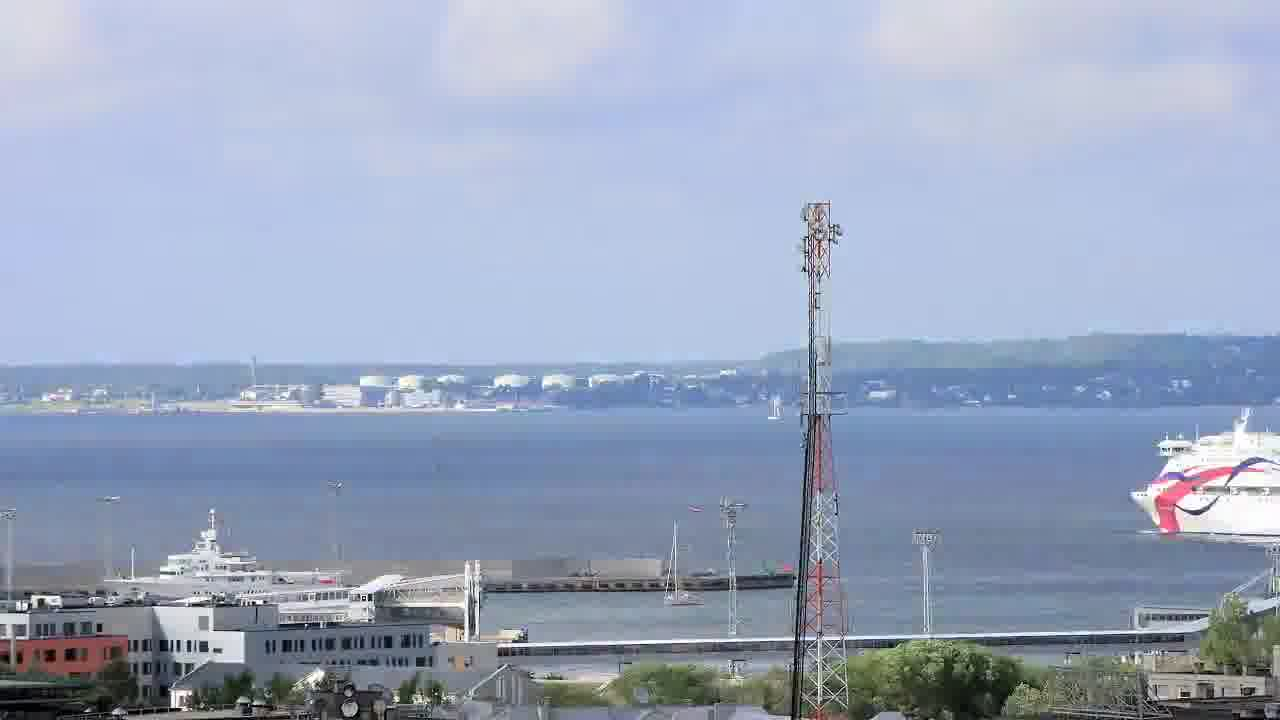type-0: (652, 520, 709, 615)
type-3: (96, 508, 381, 605), (1113, 410, 1279, 554)
